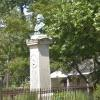Statue: (13, 11, 60, 65)
